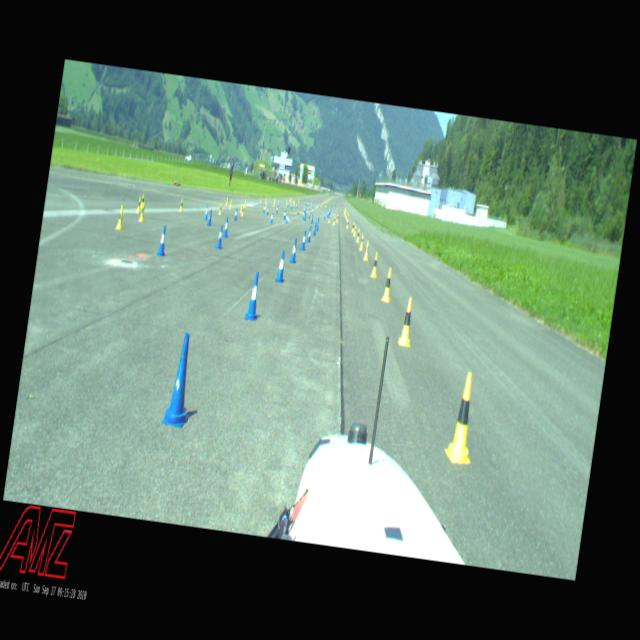blue_cone: (161, 331, 200, 428), (245, 270, 264, 320), (275, 249, 288, 283), (156, 225, 168, 256), (290, 238, 299, 264), (216, 224, 224, 250), (222, 216, 230, 238), (300, 230, 308, 250), (207, 208, 213, 226), (207, 210, 213, 226), (306, 226, 312, 242), (312, 222, 318, 235), (204, 206, 209, 220), (234, 208, 239, 222), (270, 212, 274, 224), (316, 220, 320, 232), (262, 205, 266, 212), (266, 206, 269, 215), (311, 214, 314, 223), (302, 212, 305, 220), (286, 213, 288, 223), (284, 210, 286, 220), (324, 211, 326, 219), (304, 214, 306, 221)
yellow_cone: (442, 370, 483, 468), (397, 296, 417, 348), (380, 268, 396, 302), (370, 252, 380, 278), (116, 205, 126, 230), (138, 202, 146, 222), (363, 242, 370, 260), (359, 233, 365, 250), (136, 197, 142, 213), (179, 198, 184, 212), (140, 194, 144, 208), (356, 230, 360, 242), (218, 203, 222, 214), (353, 226, 357, 237), (351, 222, 355, 232), (241, 207, 245, 216), (228, 200, 232, 209), (333, 216, 336, 225), (346, 220, 349, 229), (273, 198, 276, 207), (240, 204, 243, 212), (226, 198, 229, 205), (244, 200, 247, 207), (336, 215, 338, 223), (328, 216, 330, 223)
